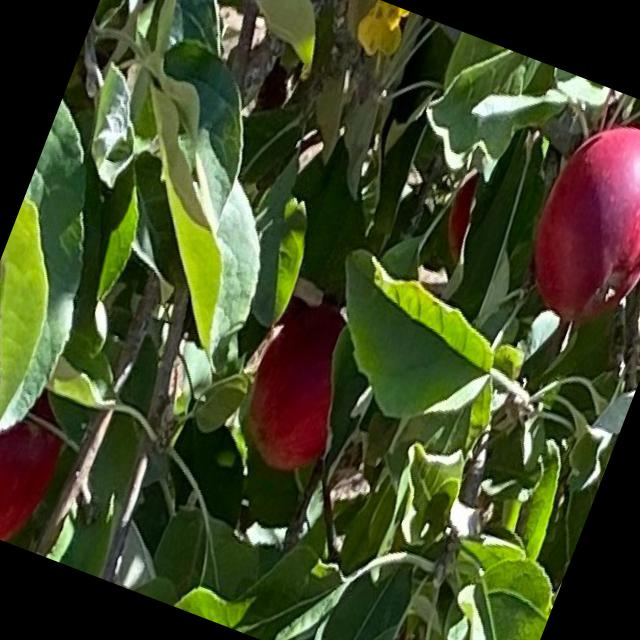Apples: (510, 106, 639, 340), (229, 292, 370, 479), (0, 349, 84, 548), (431, 169, 492, 267)
